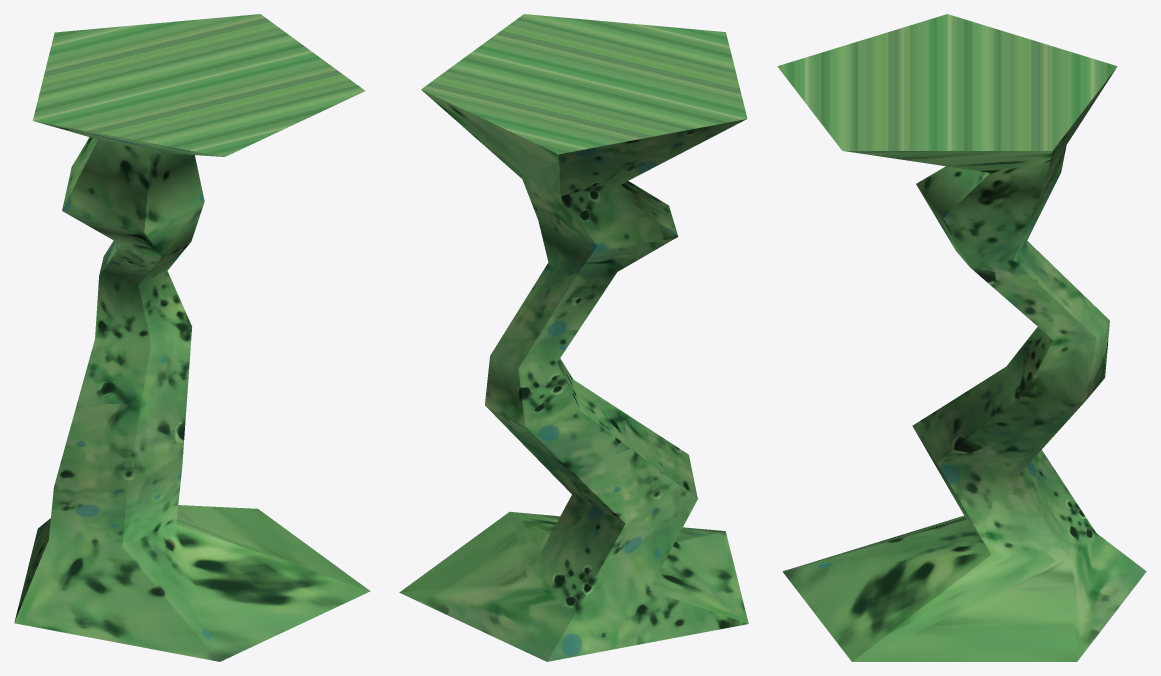
The model's file is mooncave-column2.fbx.
3 renders of one model, left to right at view 1: azimuth 30°, elevation 25°; view 2: azimuth 150°, elevation 25°; view 3: azimuth 270°, elevation 25°, orthographic.
Parts seen in each view (by area): view 1: pCylinder3; view 2: pCylinder3; view 3: pCylinder3.
Part boxes in pixels (left/top/right/bottom): pCylinder3: left=14, top=14, right=370, bottom=661; pCylinder3: left=399, top=14, right=748, bottom=661; pCylinder3: left=777, top=14, right=1146, bottom=661.
Bounding box in the file's own units: 4.31 × 6.94 × 4.59.
1 material, 1 textured.
